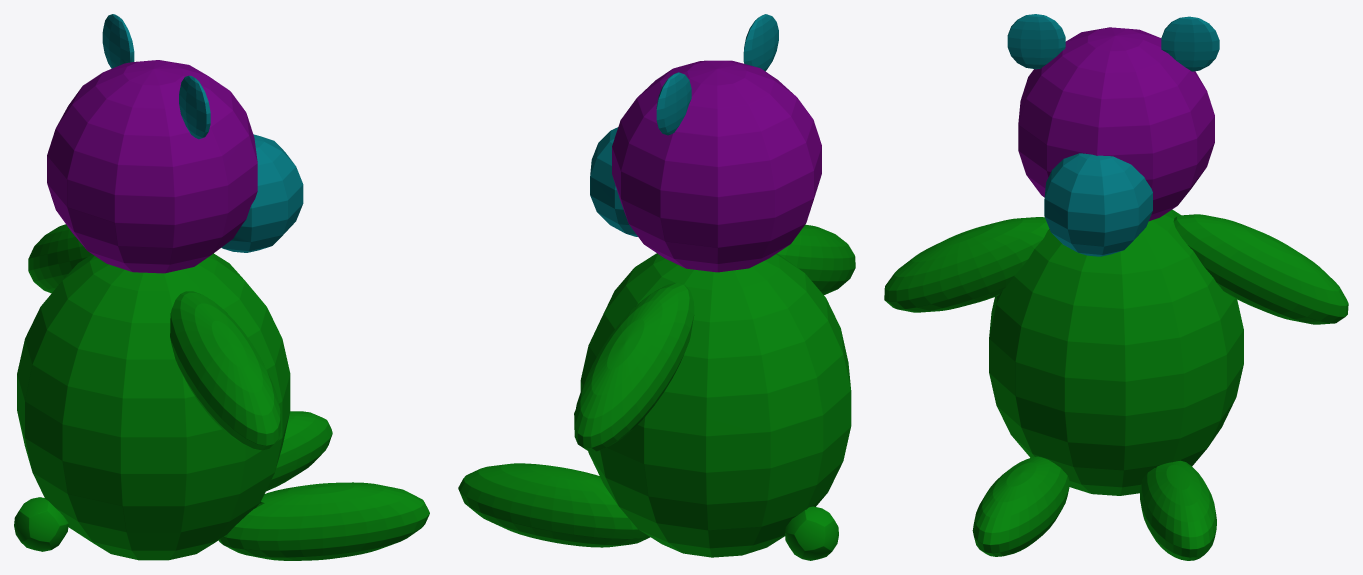
Rendered from Teddy.fbx.
3 views of the same model, side by side, from view 1: azimuth 30°, elevation 25°; view 2: azimuth 150°, elevation 25°; view 3: azimuth 270°, elevation 25° (orthographic). The views are drawn at different scales.
Parts seen in each view (by area): view 1: polySurface62 (×3); view 2: polySurface62 (×3); view 3: polySurface62 (×3).
Boxes of the visible parts, x1,y1,x2,y2 form: polySurface62 (×3): (14,14,429,560); polySurface62 (×3): (458,14,855,560); polySurface62 (×3): (884,14,1348,560).
Size of the model in its own units: 156 by 218 by 195.
